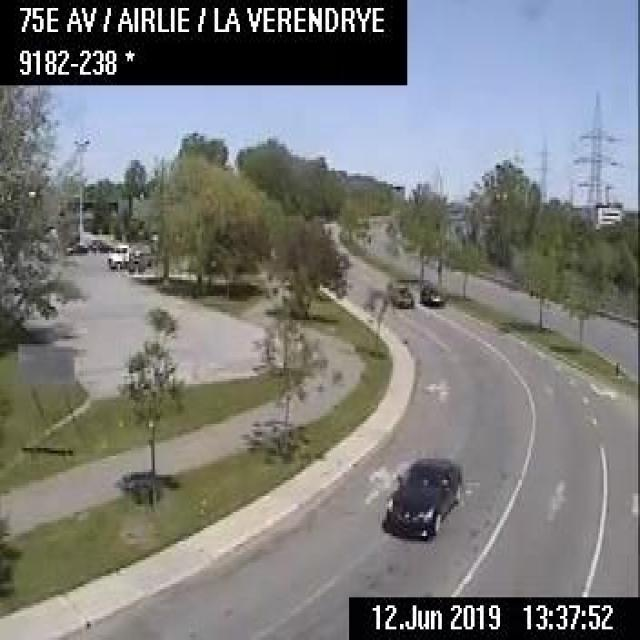vehicle: (382, 451, 464, 536), (105, 241, 132, 267), (389, 282, 415, 306), (418, 283, 442, 304)
